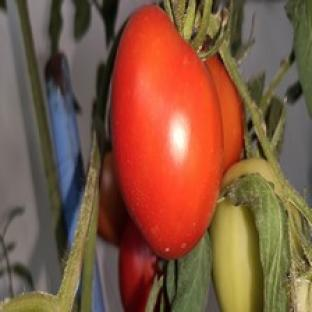Tomato: (112, 5, 222, 259), (209, 200, 263, 311), (207, 56, 243, 171), (119, 219, 158, 311), (98, 151, 128, 245)
